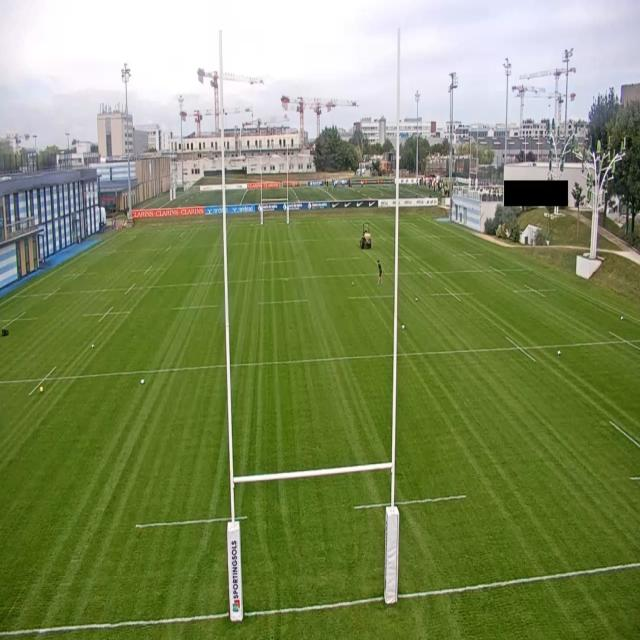rugby ball: (92, 340, 98, 355), (557, 345, 563, 359), (618, 310, 624, 323), (139, 377, 145, 386), (401, 320, 405, 332), (39, 383, 43, 393), (414, 295, 419, 301), (351, 279, 354, 286)
rugby play: (377, 260, 384, 286)
